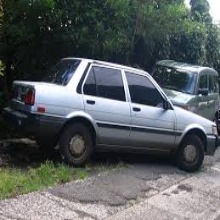no damage: (3, 56, 220, 173), (154, 59, 220, 120)
